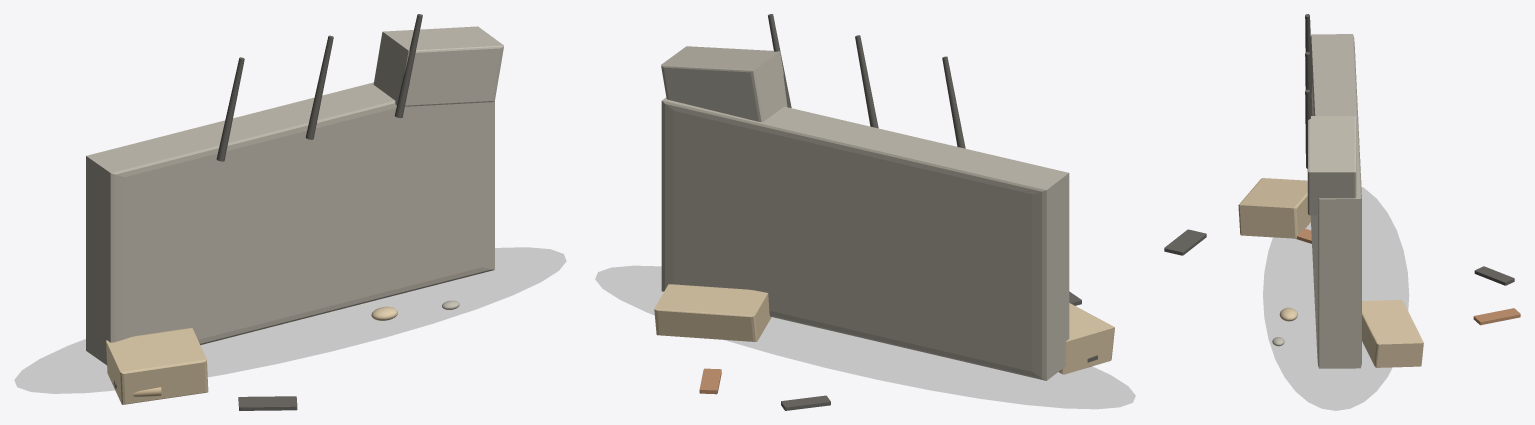
The model's file is concrete_wall.glb.
3 views of the same model, side by side, from view 1: azimuth 30°, elevation 25°; view 2: azimuth 150°, elevation 25°; view 3: azimuth 270°, elevation 25° (orthographic). The views are drawn at different scales.
Parts seen in each view (by area): view 1: main_cracked_wall_slab, painted_contact_shadow, missing_corner_chunk, fallen_concrete_chunk_a, loose_scrap_flake_1, exposed_rebar_0, exposed_rebar_1, exposed_rebar_2; view 2: main_cracked_wall_slab, painted_contact_shadow, missing_corner_chunk, fallen_concrete_chunk_b, fallen_concrete_chunk_a, exposed_rebar_1, exposed_rebar_0, loose_scrap_flake_3, loose_scrap_flake_6; view 3: painted_contact_shadow, main_cracked_wall_slab, missing_corner_chunk, fallen_concrete_chunk_a, fallen_concrete_chunk_b, loose_scrap_flake_1, loose_scrap_flake_6, loose_scrap_flake_3.
Part boxes in pixels (x1,y1,x2,y2): main_cracked_wall_slab: (86,82,494,365); painted_contact_shadow: (15,247,565,393); missing_corner_chunk: (373,26,503,106); fallen_concrete_chunk_a: (106,328,208,404); loose_scrap_flake_1: (238,396,297,410); exposed_rebar_0: (216,57,244,161); exposed_rebar_1: (305,35,333,139); exposed_rebar_2: (394,14,422,118); main_cracked_wall_slab: (661,97,1069,380); painted_contact_shadow: (595,266,1135,408); missing_corner_chunk: (661,46,787,122); fallen_concrete_chunk_b: (654,284,771,341); fallen_concrete_chunk_a: (1058,303,1114,374); exposed_rebar_1: (855,35,878,128); exposed_rebar_0: (942,56,965,148); loose_scrap_flake_3: (781,395,830,410); loose_scrap_flake_6: (699,368,721,394); painted_contact_shadow: (1263,187,1408,410); main_cracked_wall_slab: (1310,34,1361,368); missing_corner_chunk: (1307,116,1356,215); fallen_concrete_chunk_a: (1238,178,1310,238); fallen_concrete_chunk_b: (1362,300,1423,367); loose_scrap_flake_1: (1164,229,1206,255); loose_scrap_flake_6: (1473,308,1520,325); loose_scrap_flake_3: (1474,266,1514,285).
Size of the model in its own units: 2.7 by 1.38 by 1.75.
